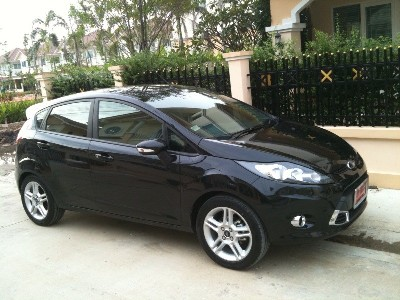sedan: (11, 81, 371, 270)
